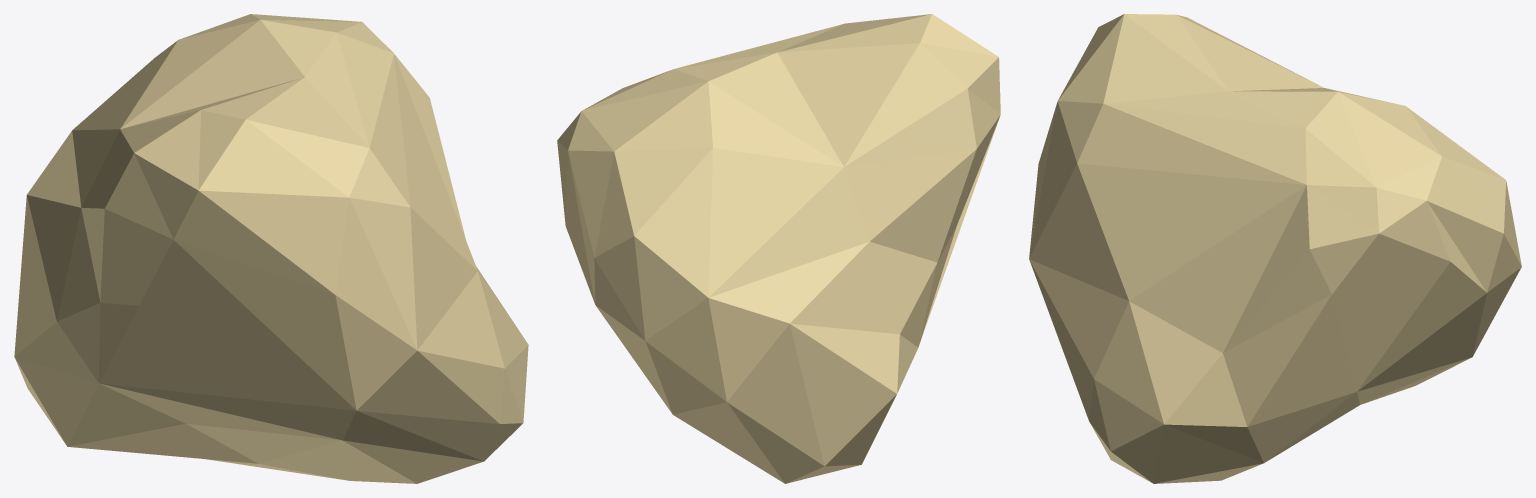
Rendered from Rock (28).fbx.
The picture shows the model from 3 angles, left to right: view 1: azimuth 30°, elevation 25°; view 2: azimuth 150°, elevation 25°; view 3: azimuth 270°, elevation 25°; orthographic projection. The views are drawn at different scales.
Visible parts, largest first — view 1: Asteroid27; view 2: Asteroid27; view 3: Asteroid27.
Part boxes in pixels (x1,y1,x2,y2): Asteroid27: (14,14,528,483); Asteroid27: (557,14,1000,483); Asteroid27: (1029,14,1521,483).
Bounding box in the file's own units: 148 × 153 × 178.
